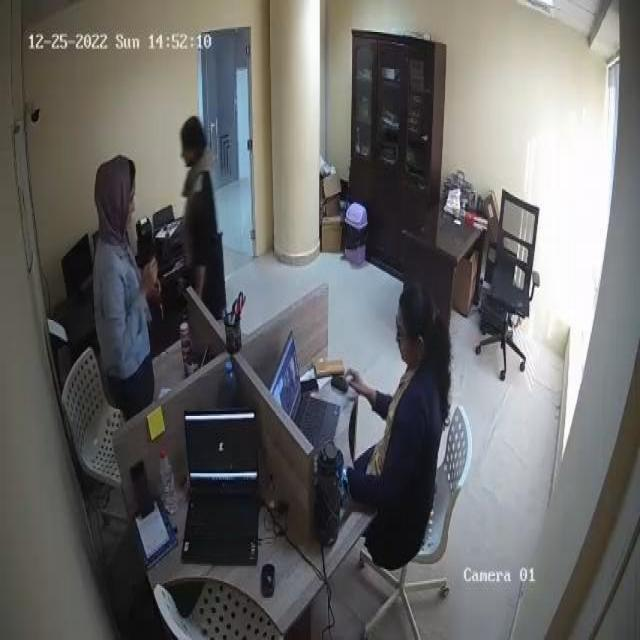bare_hand: (338, 355, 381, 409), (139, 248, 172, 315)
